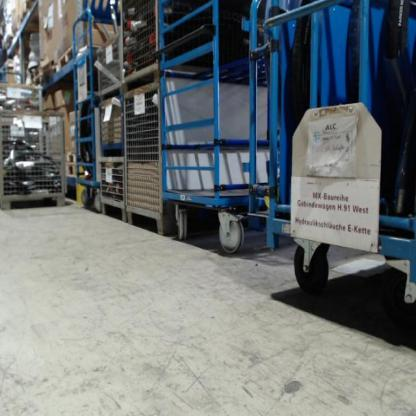pallet: (58, 41, 78, 73), (65, 151, 86, 165), (65, 164, 76, 180)
stillage: (0, 107, 68, 213), (124, 80, 167, 238), (121, 2, 163, 88), (99, 153, 128, 224), (94, 36, 126, 95), (98, 93, 126, 154), (2, 81, 47, 113)
